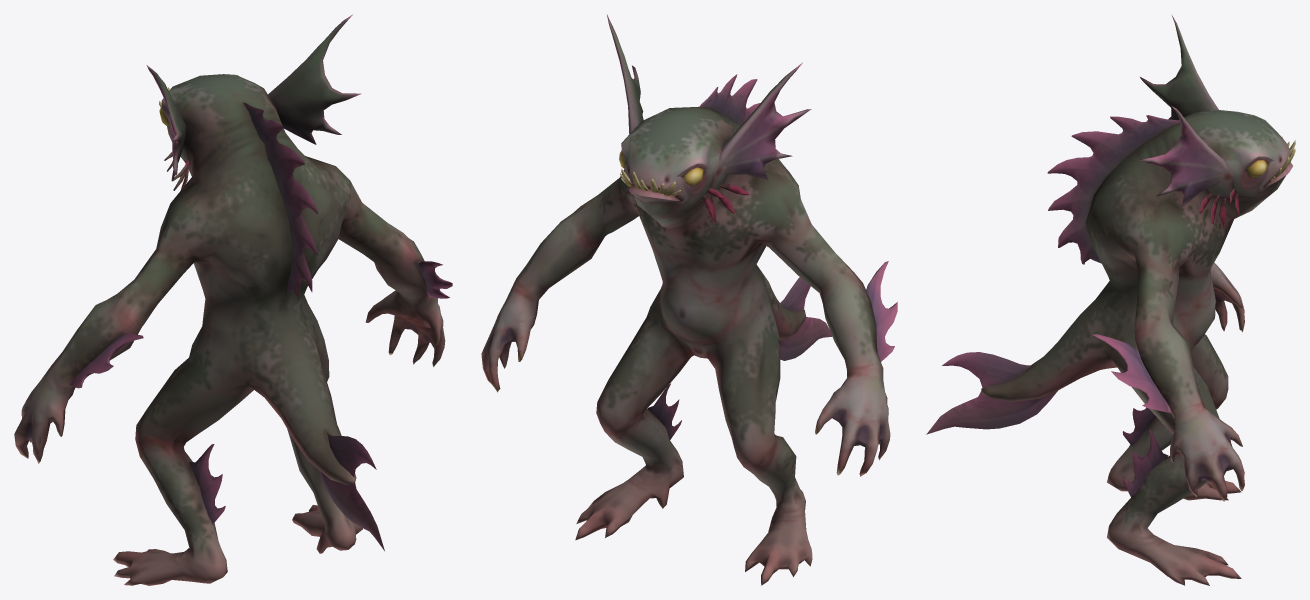
File: deep-one-a71d65.glb
The picture shows the model from 3 angles, left to right: view 1: azimuth 30°, elevation 25°; view 2: azimuth 150°, elevation 25°; view 3: azimuth 270°, elevation 25°; orthographic projection. The views are drawn at different scales.
Visible parts, largest first — view 1: PropMesh; view 2: PropMesh; view 3: PropMesh.
Boxes of the visible parts, box(x1,y1,x2,y2) form: PropMesh: box(14, 14, 452, 585); PropMesh: box(481, 15, 897, 585); PropMesh: box(926, 15, 1295, 585).
Size of the model in its own units: 1.25 by 1.5 by 1.06.
1 material, 1 textured.
